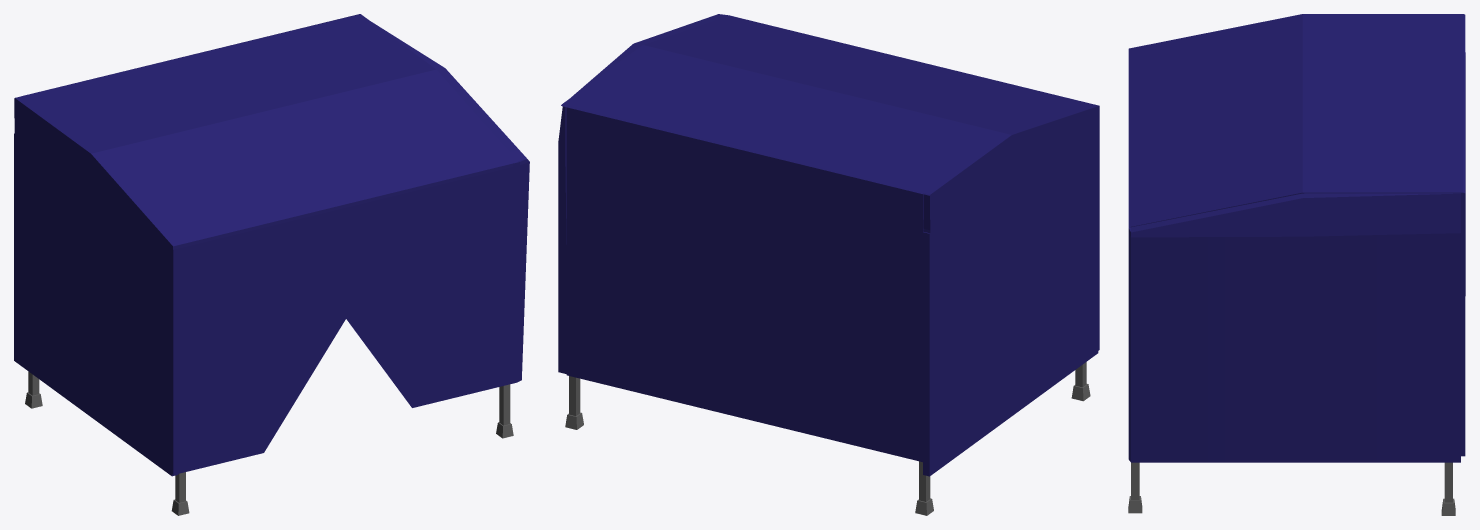
The model's file is Carpa.fbx.
3 views of the same model, side by side, from view 1: azimuth 30°, elevation 25°; view 2: azimuth 150°, elevation 25°; view 3: azimuth 270°, elevation 25° (orthographic). The views are drawn at different scales.
Parts seen in each view (by area): view 1: Carpa; view 2: Carpa; view 3: Carpa.
Boxes of the visible parts, <box> form: Carpa: <box>14,14,529,515</box>; Carpa: <box>558,14,1099,515</box>; Carpa: <box>1128,14,1465,515</box>.
Size of the model in its own units: 7.34 by 5.97 by 5.65.
